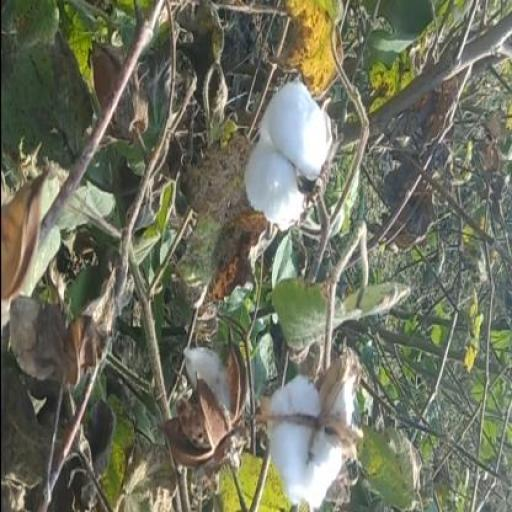cotton_ready: (254, 323, 368, 511), (240, 67, 343, 255)
